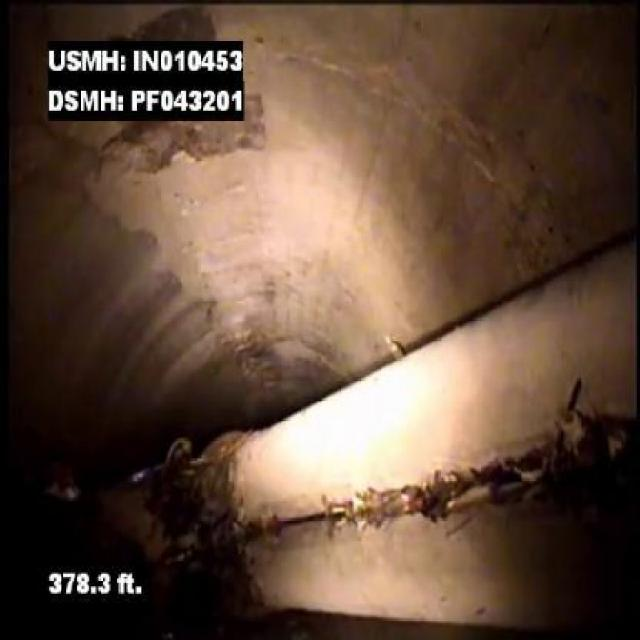Utility intrusion: (270, 223, 638, 532)
